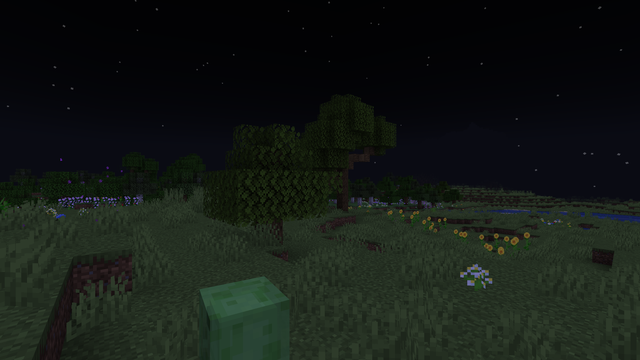slimes: (192, 272, 292, 357)
